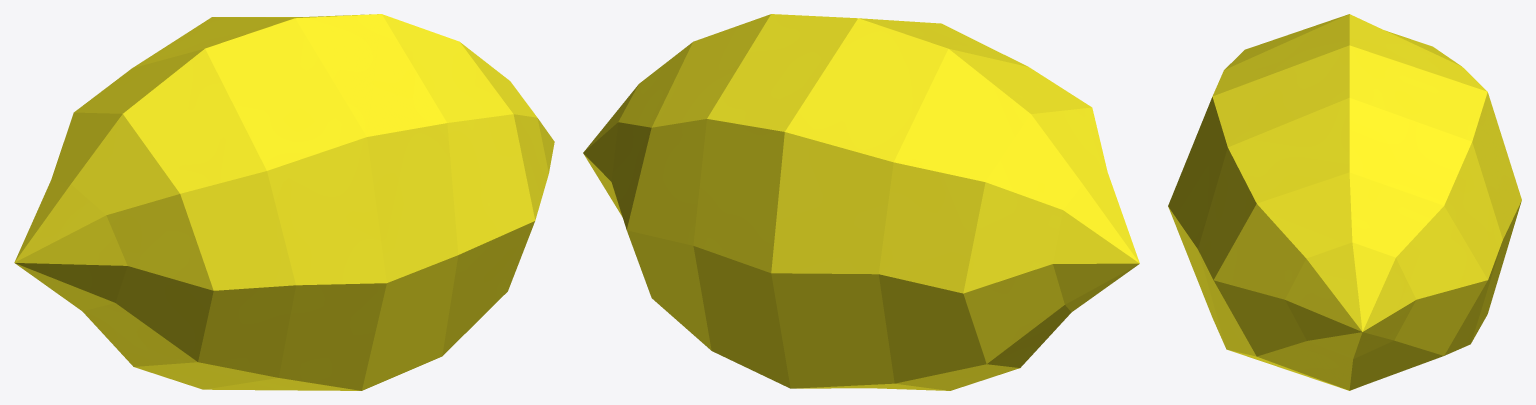
File: Lemon.fbx
3 renders of one model, left to right at view 1: azimuth 30°, elevation 25°; view 2: azimuth 150°, elevation 25°; view 3: azimuth 270°, elevation 25°, orthographic. The views are drawn at different scales.
Visible parts, largest first — view 1: Lemon; view 2: Lemon; view 3: Lemon.
Boxes of the visible parts, x1=… form: Lemon: x1=14, y1=14, x2=554, y2=390; Lemon: x1=583, y1=14, x2=1139, y2=390; Lemon: x1=1168, y1=14, x2=1521, y2=390.
Bounding box in the file's own units: 0.1451 × 0.0927 × 0.0919.
